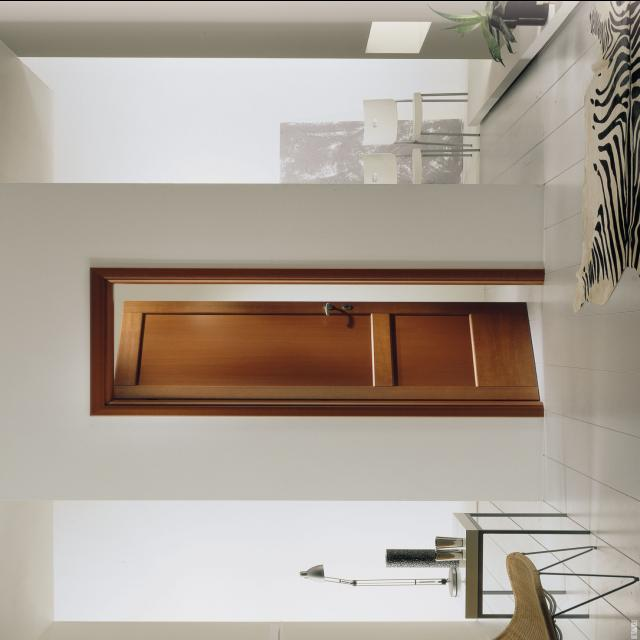open: (90, 268, 544, 411)
